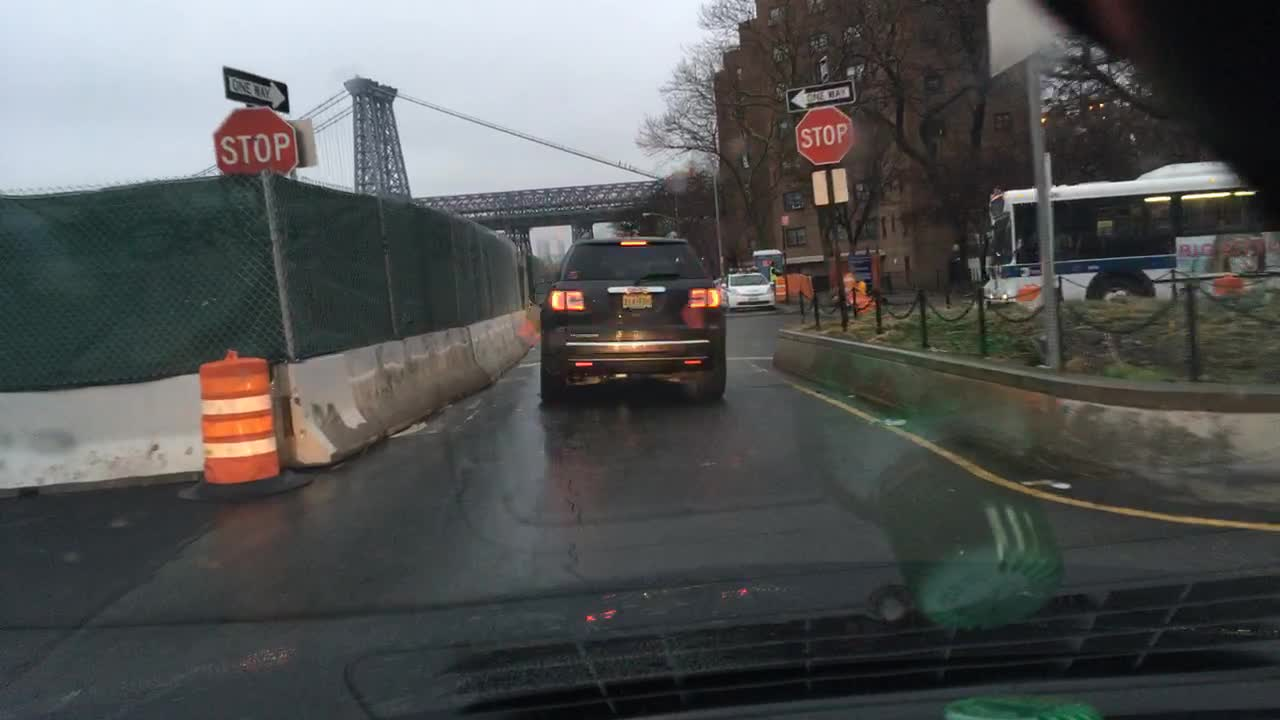bus: (975, 160, 1279, 309)
car: (536, 226, 725, 403), (714, 273, 776, 314)
person: (766, 256, 779, 287)
traffic sign: (214, 106, 298, 177), (219, 64, 292, 113), (793, 106, 852, 165), (783, 77, 854, 111), (287, 115, 314, 169), (813, 169, 847, 204)
